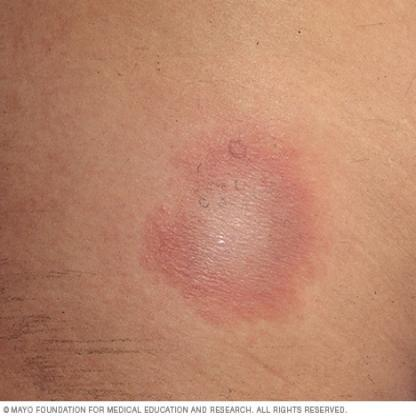Tick: (135, 121, 327, 330)
